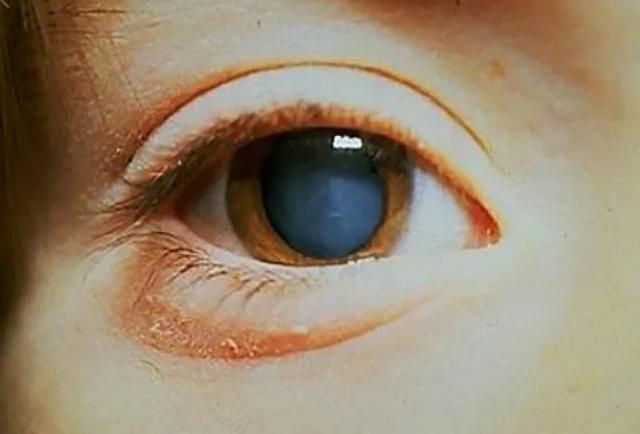eye: (224, 122, 412, 264)
